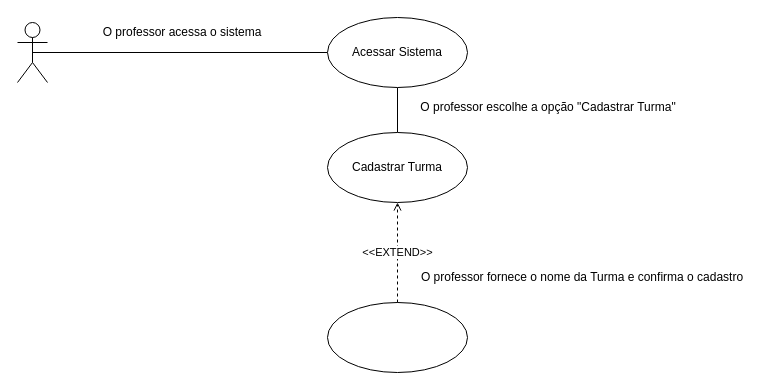
Image size: 775x390. Some labels were removed from this diagram. Each missing label, with the centre of its shape:
Actor: point 32,52
dados estáticos: "nome da turma": point 397,337
